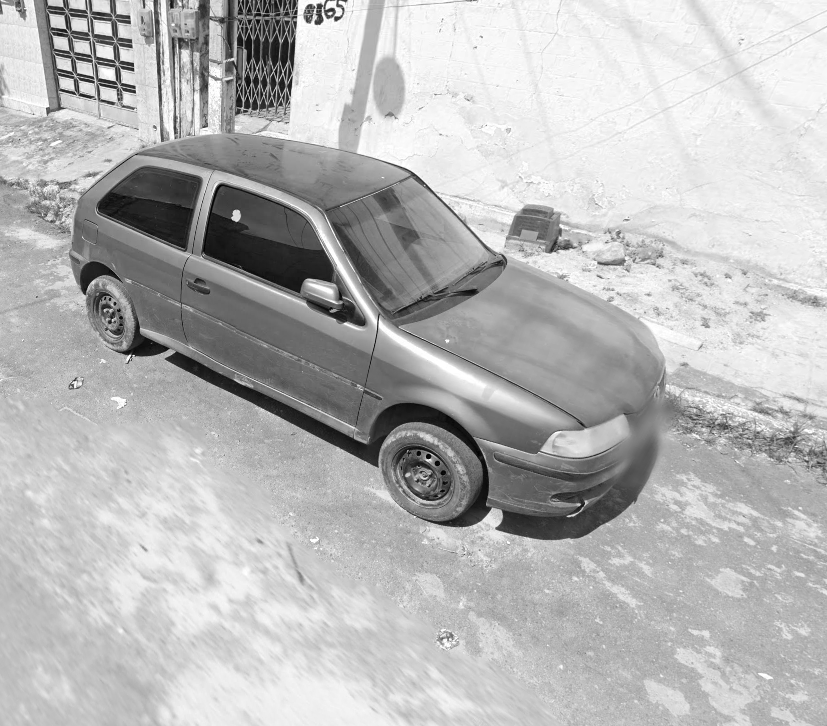car: (64, 123, 670, 548)
